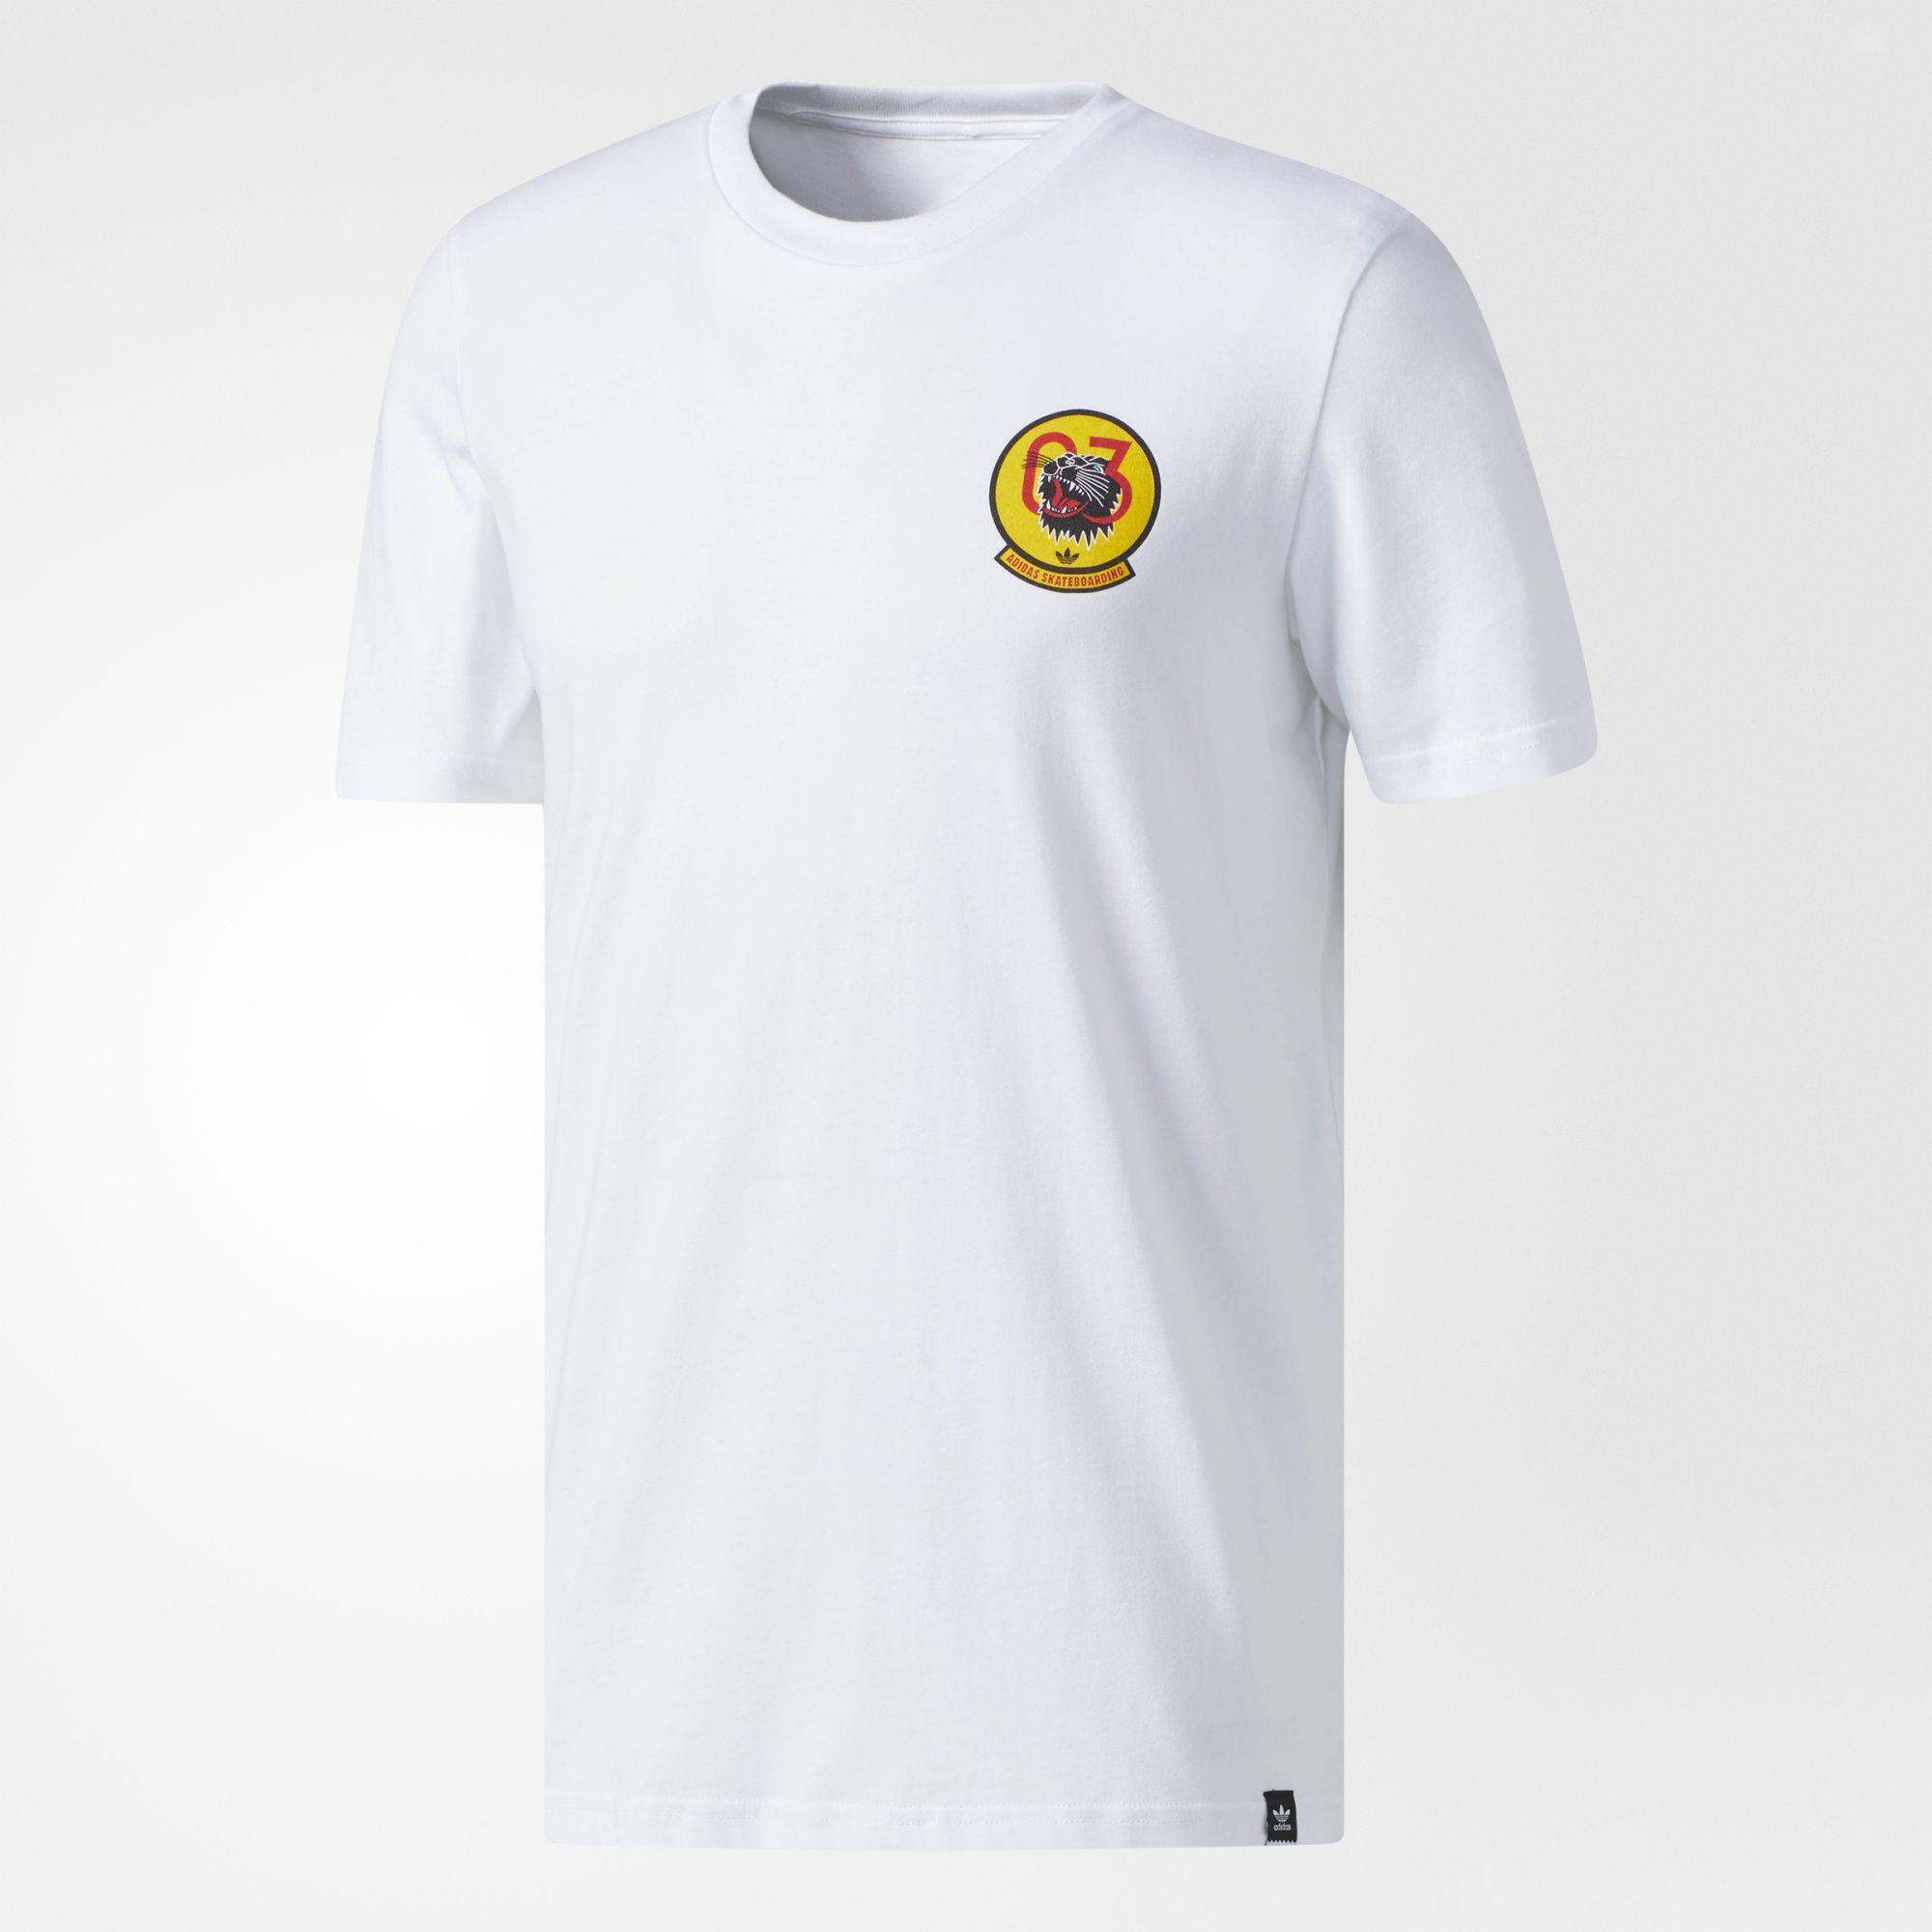teeshirt: (347, 60, 1612, 1925)
